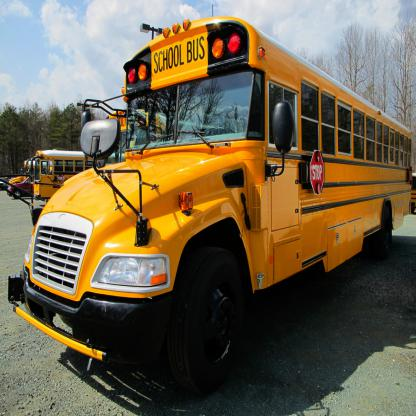Bus: (8, 6, 412, 397), (104, 109, 217, 166), (34, 148, 125, 201)
